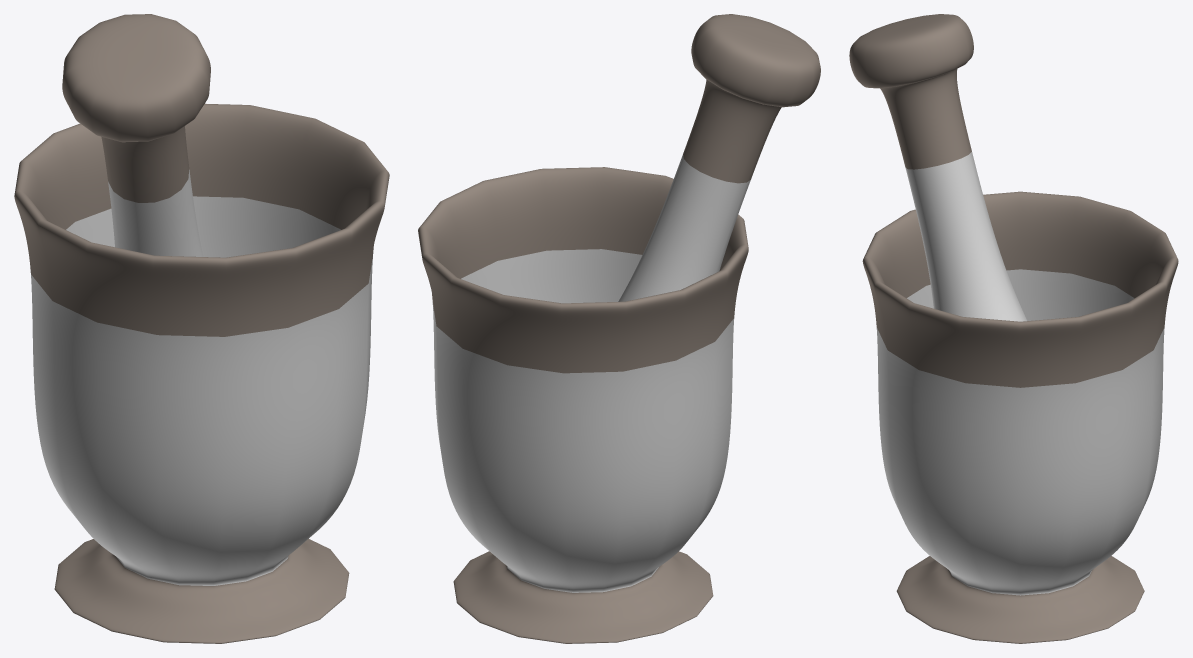
File: mortar.glb
3 renders of one model, left to right at view 1: azimuth 30°, elevation 25°; view 2: azimuth 150°, elevation 25°; view 3: azimuth 270°, elevation 25°, orthographic. The views are drawn at different scales.
Visible parts, largest first — view 1: Curva NURBS, Curva NURBS.001; view 2: Curva NURBS, Curva NURBS.001; view 3: Curva NURBS, Curva NURBS.001.
Boxes of the visible parts, x1=… form: Curva NURBS: x1=14, y1=103, x2=389, y2=643; Curva NURBS.001: x1=62, y1=14, x2=210, y2=256; Curva NURBS: x1=418, y1=167, x2=748, y2=643; Curva NURBS.001: x1=618, y1=14, x2=820, y2=301; Curva NURBS: x1=862, y1=191, x2=1178, y2=643; Curva NURBS.001: x1=849, y1=14, x2=1026, y2=321.
Size of the model in its own units: 2.65 by 4.43 by 2.52.
